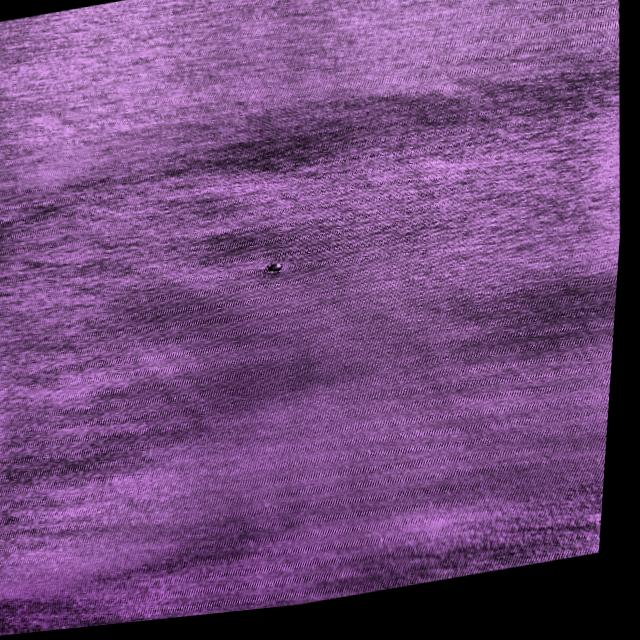Hole: (253, 253, 308, 300)
